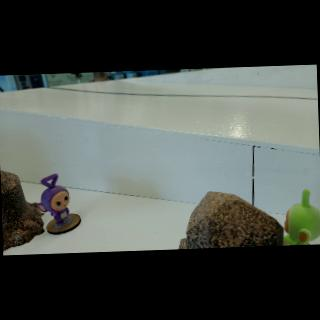teletubby: (283, 190, 320, 246), (37, 174, 69, 225)
